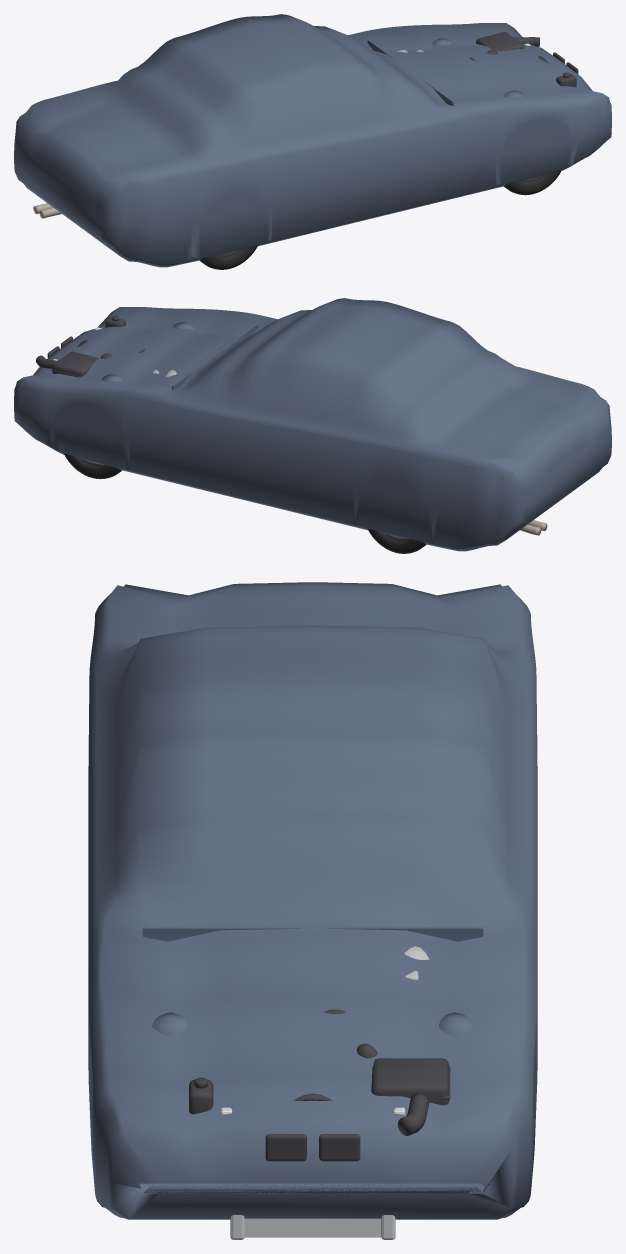
3 renders of one model, top to bottom at view 1: azimuth 30°, elevation 25°; view 2: azimuth 150°, elevation 25°; view 3: azimuth 270°, elevation 25°, orthographic. The views are drawn at different scales.
Visible parts, largest first — view 1: body__shell, wheels-and-tyres, air-filter-housing; view 2: body__shell, wheels-and-tyres, air-filter-housing; view 3: body__shell, air-filter-housing, intercooler, body__kidney-grille, body__bulkhead, body__strut-towers.
Part boxes in pixels (box(x1,y1,x2,y2)): body__shell: box(14, 14, 611, 267); wheels-and-tyres: box(199, 170, 561, 269); air-filter-housing: box(475, 32, 539, 54); body__shell: box(14, 298, 611, 551); wheels-and-tyres: box(64, 454, 426, 553); air-filter-housing: box(36, 351, 112, 377); body__shell: box(88, 582, 537, 1219); air-filter-housing: box(356, 1043, 450, 1135); intercooler: box(230, 1215, 395, 1239); body__kidney-grille: box(265, 1134, 360, 1161); body__bulkhead: box(142, 927, 483, 941); body__strut-towers: box(152, 1012, 473, 1036).
Bounding box in the file's own units: 4.84 × 1.47 × 1.85.
